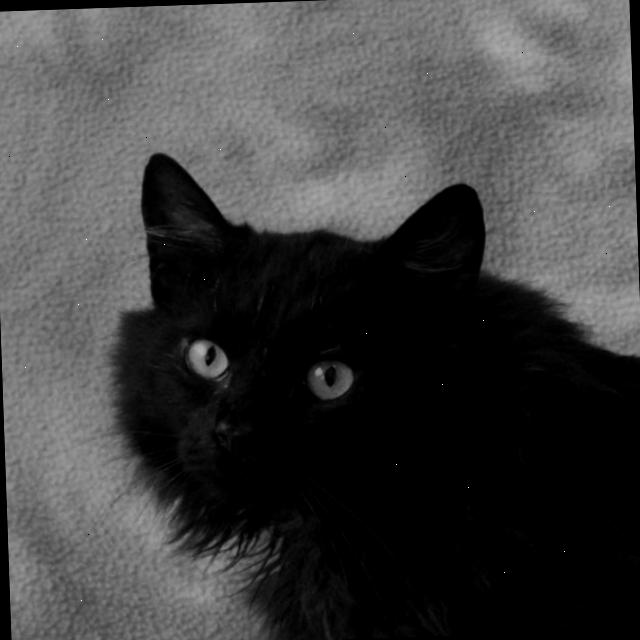domestic_long_hair_cat: (62, 130, 553, 584)
